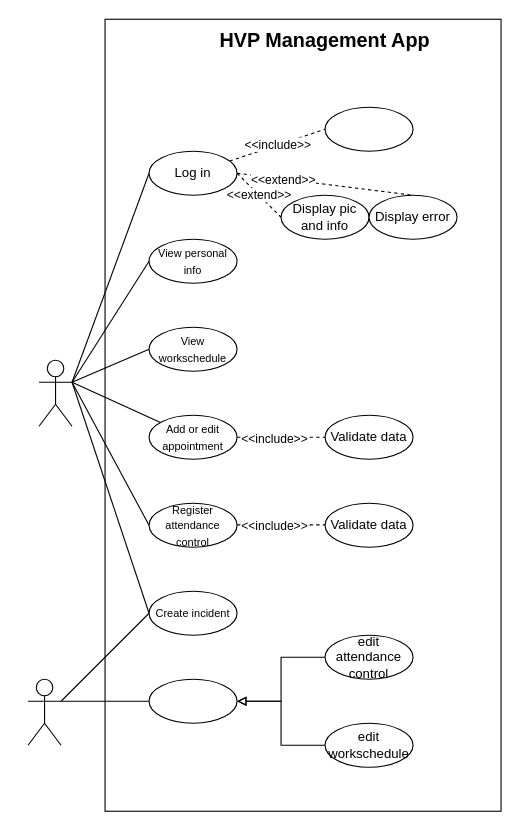
Image size: 520x831. Some labels were removed from this diagram. The shapes that lost their labels are listed below. From the top down, each one's centre as x and y in pixels, then its label:
point (368, 128): Verify password
point (55, 392): Collaborator
point (44, 711): Manager
point (192, 700): Solve incident
